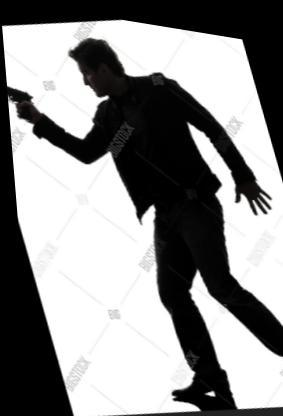pistol: (5, 73, 36, 127)
